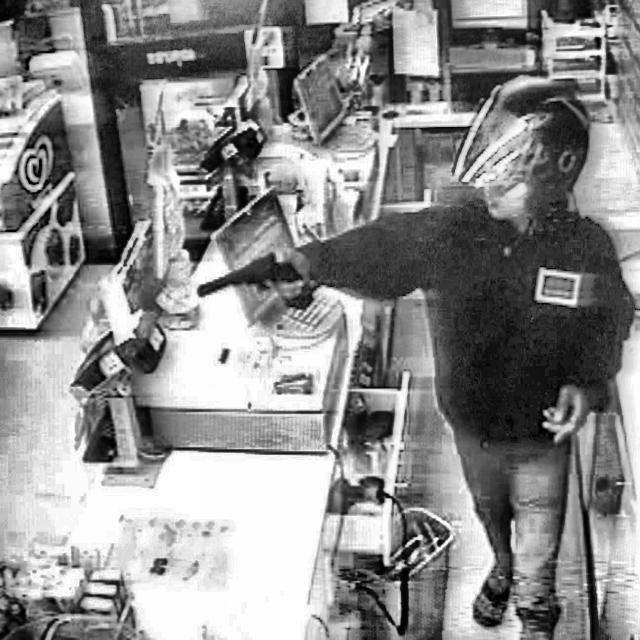pistol: (177, 239, 335, 324)
robbery: (184, 54, 640, 639)
